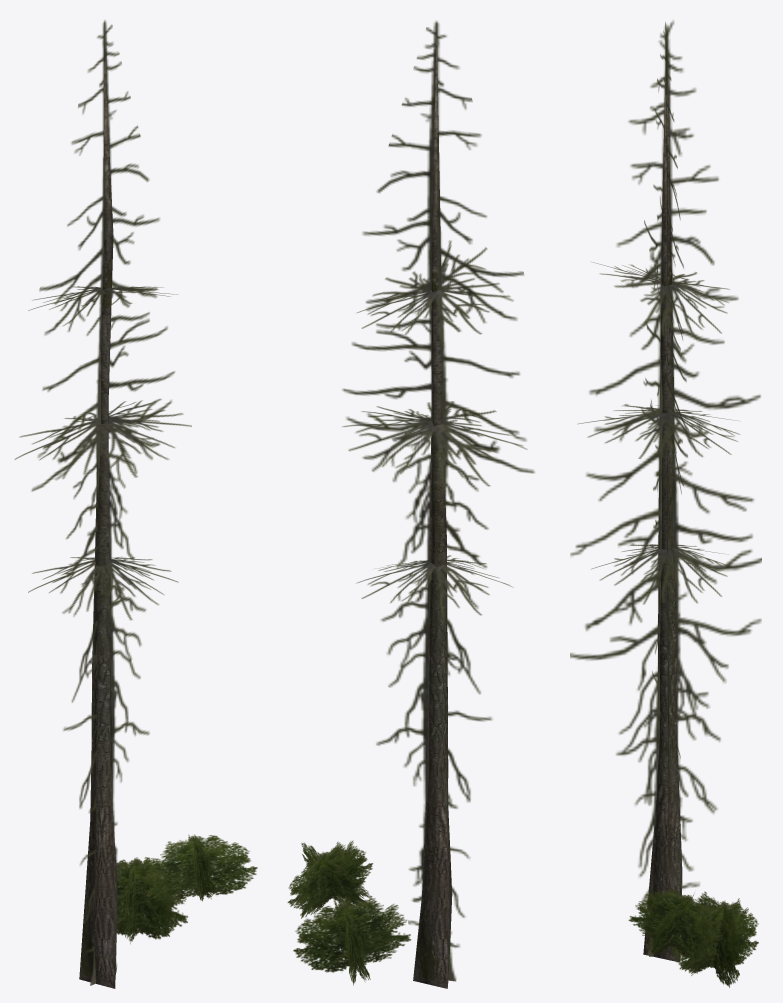
File: Oak_813.gltf
3 views of the same model, side by side, from view 1: azimuth 30°, elevation 25°; view 2: azimuth 150°, elevation 25°; view 3: azimuth 270°, elevation 25° (orthographic). The views are drawn at different scales.
Visible parts, largest first — view 1: Oak_813; view 2: Oak_813; view 3: Oak_813.
Boxes of the visible parts, x1=… form: Oak_813: x1=14, y1=20, x2=257, y2=988; Oak_813: x1=287, y1=21, x2=534, y2=988; Oak_813: x1=570, y1=20, x2=761, y2=987.
Bounding box in the file's own units: 9 × 35.3 × 6.87.
2 materials, 2 textured.
